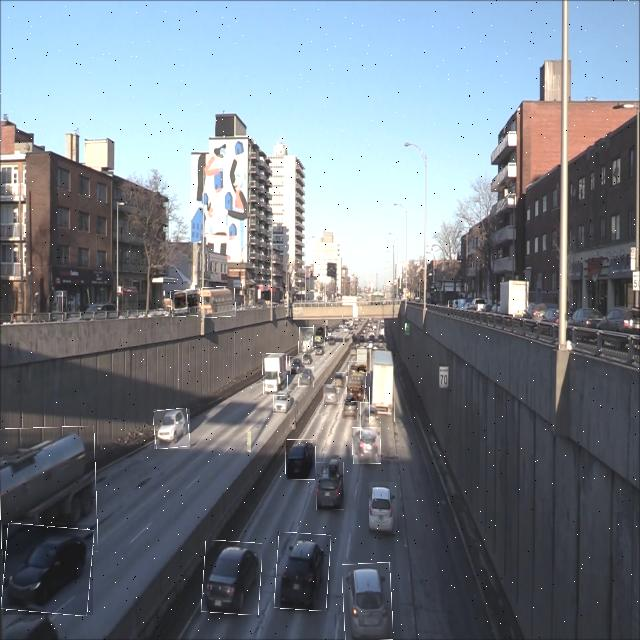Bus: (197, 287, 235, 317), (170, 290, 201, 316)
Car: (3, 525, 93, 615), (202, 541, 261, 615), (276, 533, 330, 611), (343, 562, 392, 640), (370, 482, 398, 534), (154, 409, 190, 449), (316, 462, 344, 510), (286, 440, 316, 480), (353, 427, 381, 464), (360, 402, 381, 439), (273, 390, 292, 414), (342, 394, 358, 420), (323, 384, 339, 404), (299, 367, 314, 387), (290, 356, 303, 374), (336, 372, 348, 387), (314, 346, 326, 356), (328, 335, 336, 346)
Truck: (0, 427, 96, 554), (370, 349, 395, 424), (263, 354, 288, 396), (347, 362, 367, 402), (299, 327, 316, 354), (358, 346, 370, 372), (313, 324, 326, 348)
